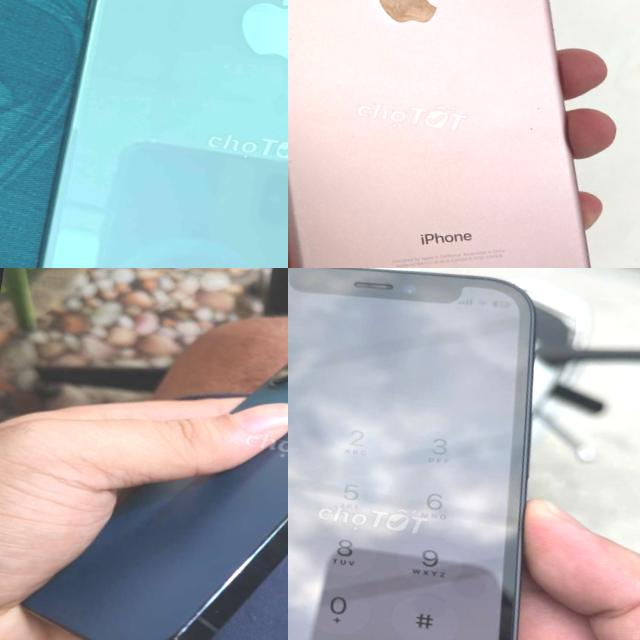gen_12_13: (288, 268, 583, 640), (15, 268, 288, 640)
gen_7_8: (288, 0, 640, 268)
gen_x_xs: (10, 0, 288, 268)
scratch: (511, 88, 579, 162)
